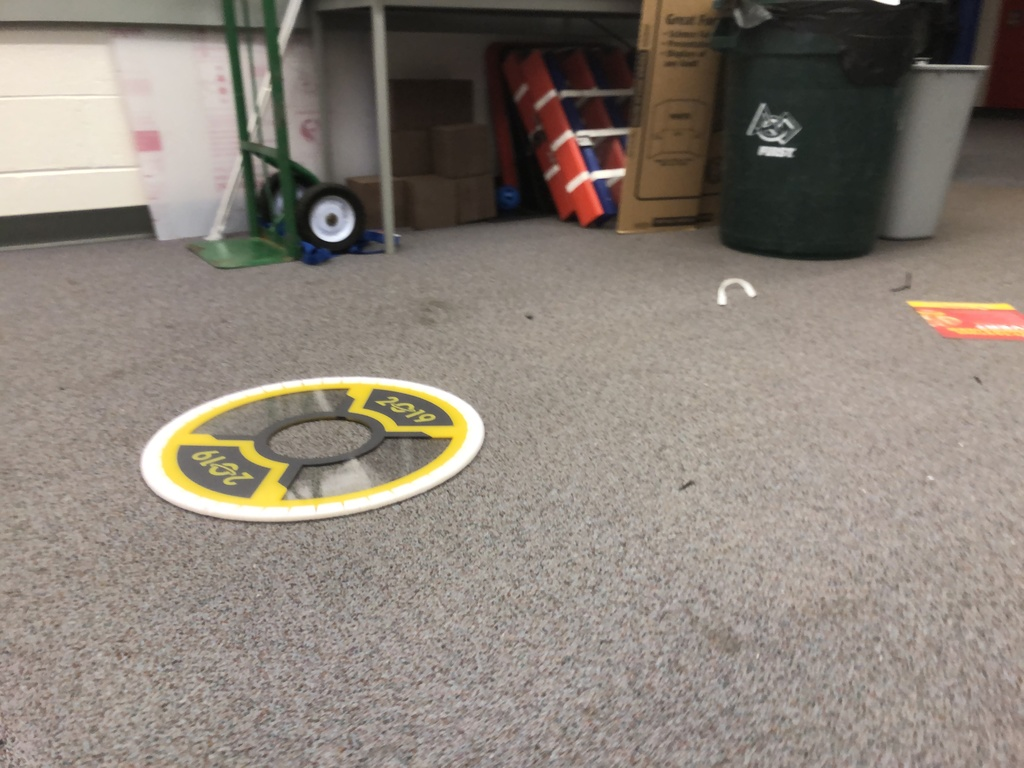hatch_panel: (124, 366, 518, 530)
